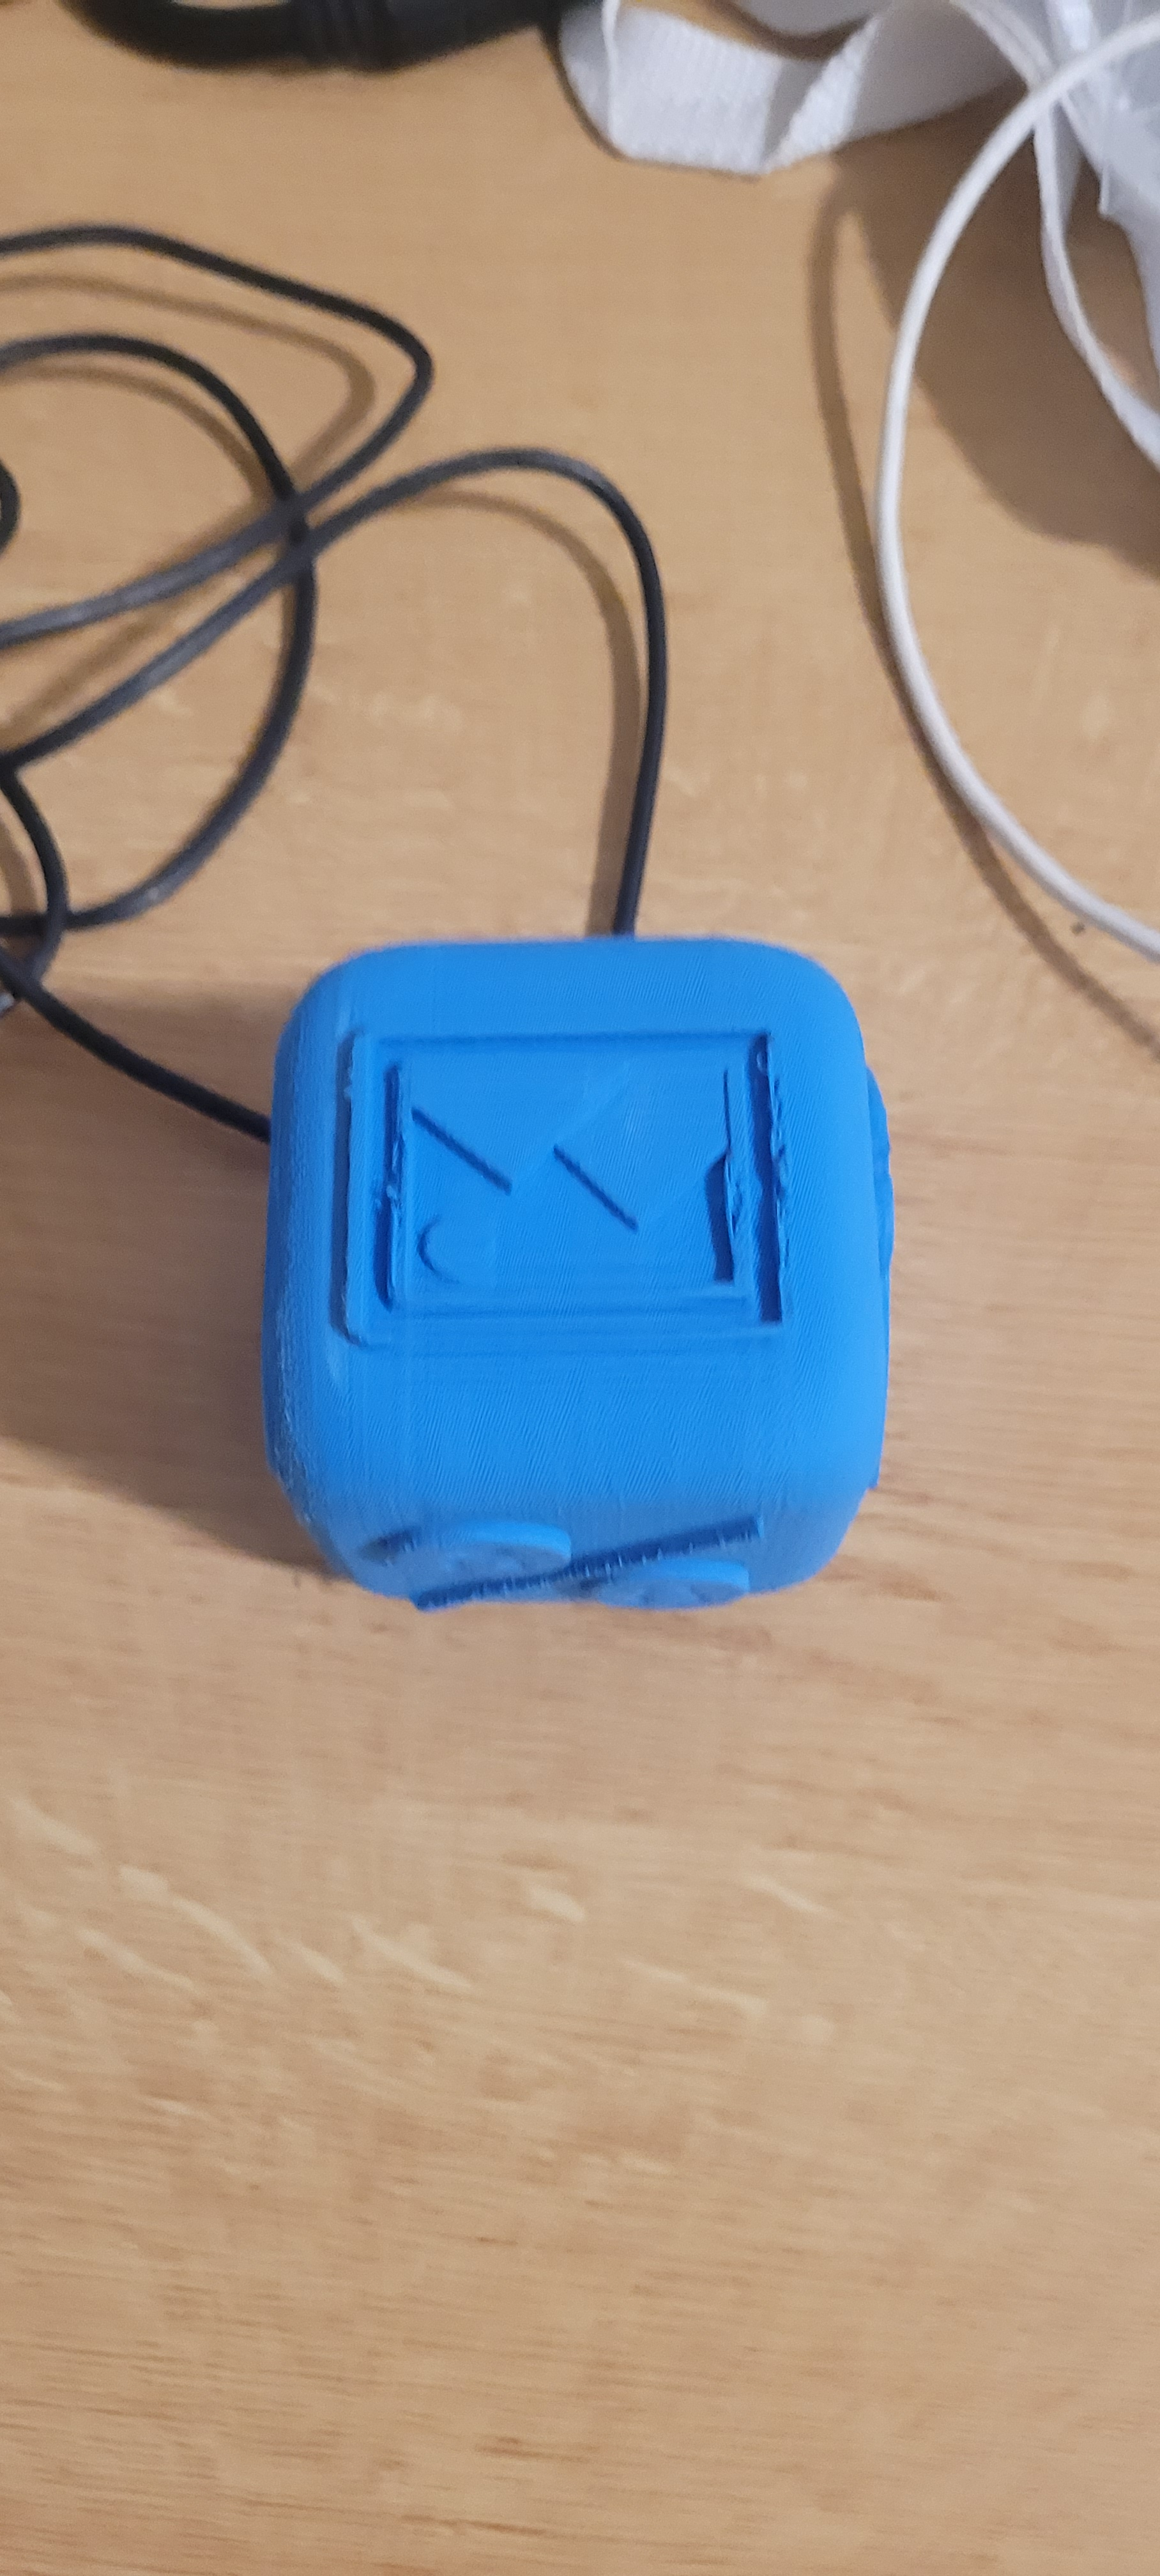Story: (324, 969, 830, 1373)
